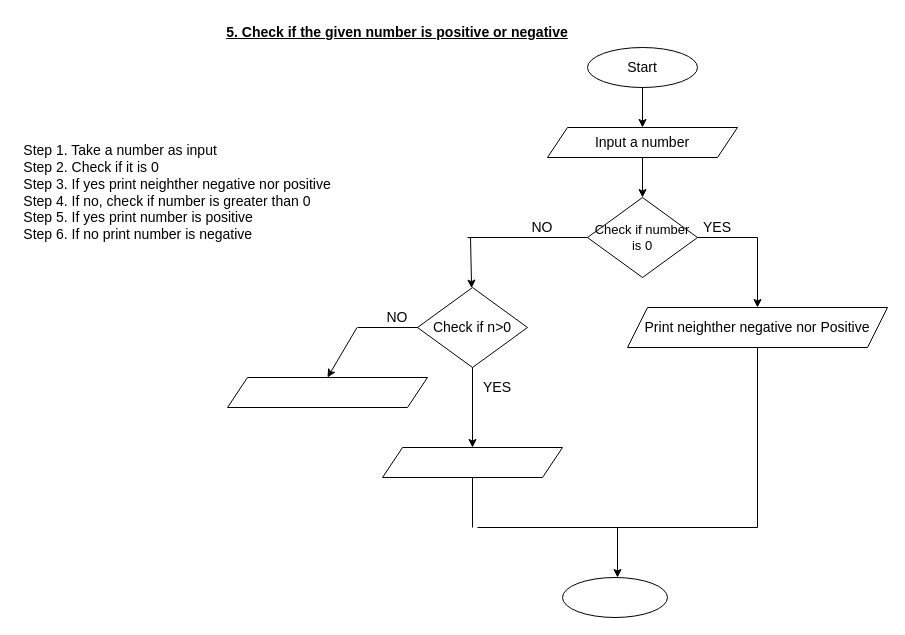
This 905x635 diagram has some shape labels left out. Each missing label, with the centre of its shape:
Print number is negatve: the point at 327,392
Print number is positive: the point at 472,462
Stop: the point at 615,597
